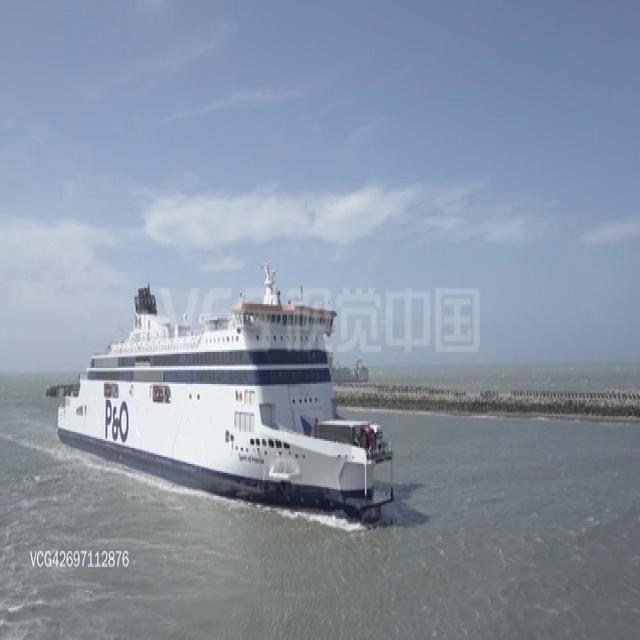passenger ship: (50, 276, 393, 515)
